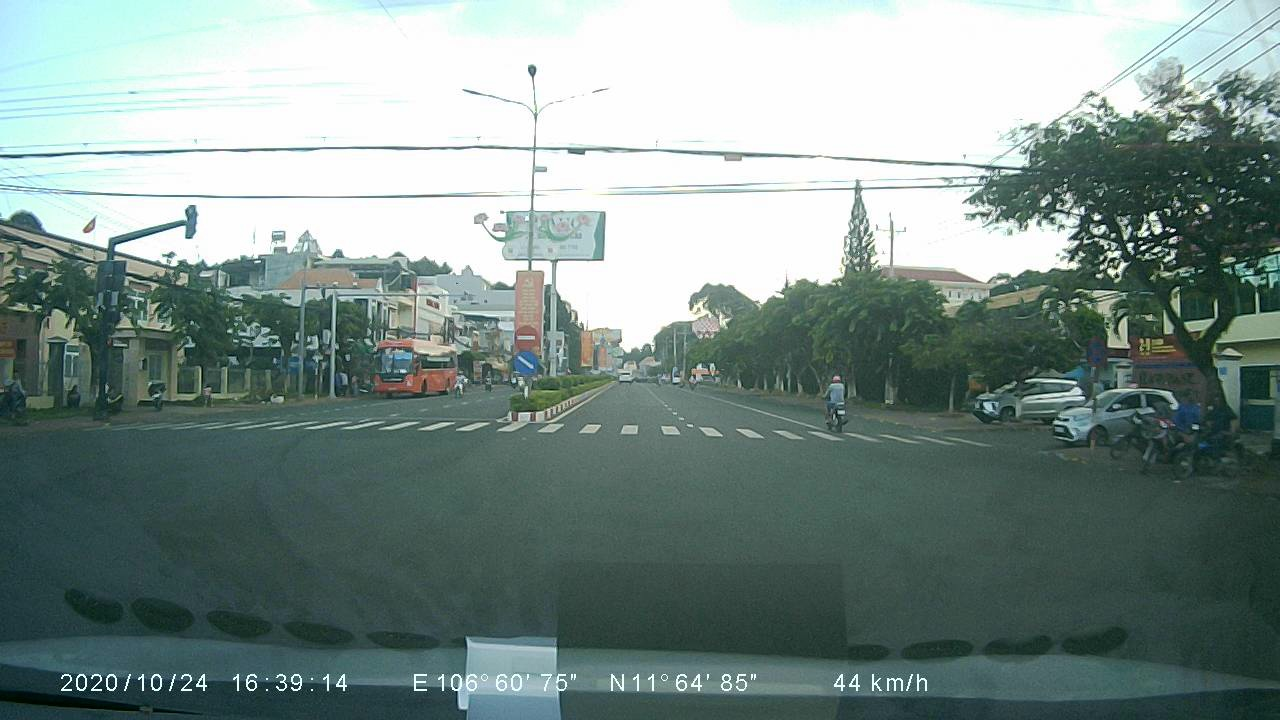Cam di nguoc chieu: (510, 324, 542, 351)
Huong di phai re phai: (511, 349, 544, 377)
